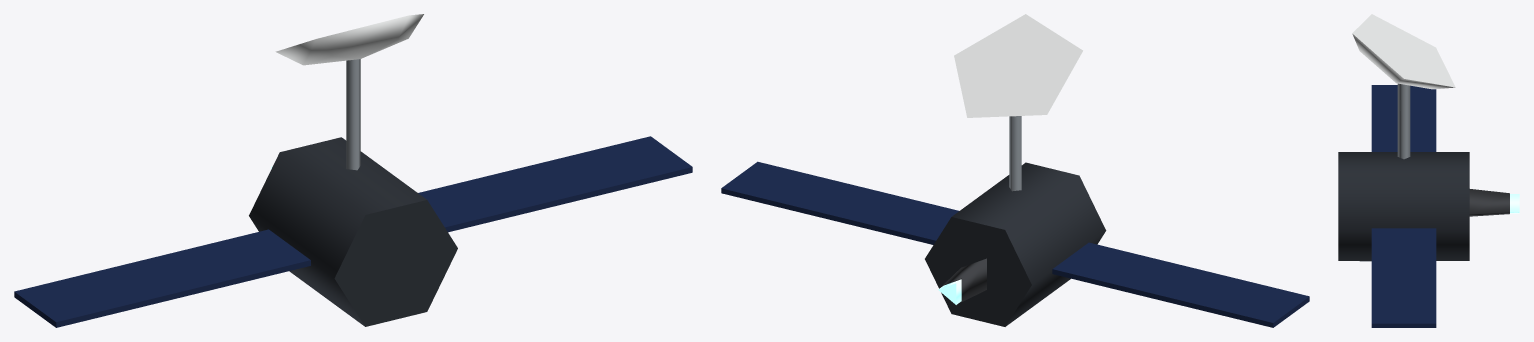
File: space_ship_probe_mk4_lod2.glb
3 renders of one model, left to right at view 1: azimuth 30°, elevation 25°; view 2: azimuth 150°, elevation 25°; view 3: azimuth 270°, elevation 25°, orthographic. The views are drawn at different scales.
Parts seen in each view (by area): view 1: body, solar_0, solar_1, antenna_0; view 2: body, antenna_0, solar_0, solar_1, engine_0; view 3: body, solar_1, antenna_0, solar_0, engine_0.
Part boxes in pixels (<box>): body: <box>249,137,457,326</box>; solar_0: <box>14,229,310,327</box>; solar_1: <box>418,136,692,232</box>; antenna_0: <box>275,14,423,170</box>; body: <box>925,162,1106,326</box>; antenna_0: <box>954,14,1082,191</box>; solar_0: <box>1052,242,1309,327</box>; solar_1: <box>721,161,958,244</box>; engine_0: <box>938,258,986,304</box>; body: <box>1338,152,1469,261</box>; solar_1: <box>1371,228,1436,327</box>; antenna_0: <box>1352,14,1455,159</box>; solar_0: <box>1371,85,1436,151</box>; engine_0: <box>1469,189,1519,216</box>.
Size of the model in its own units: 7 by 3.16 by 2.25.
